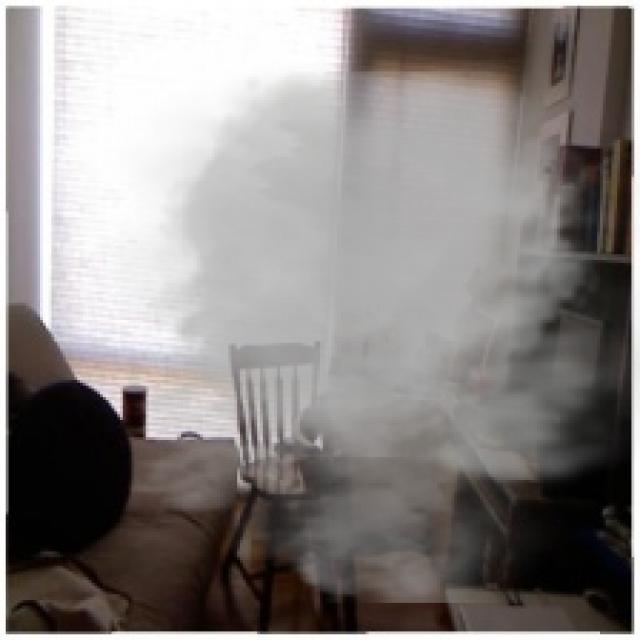smoke: (74, 37, 637, 606)
